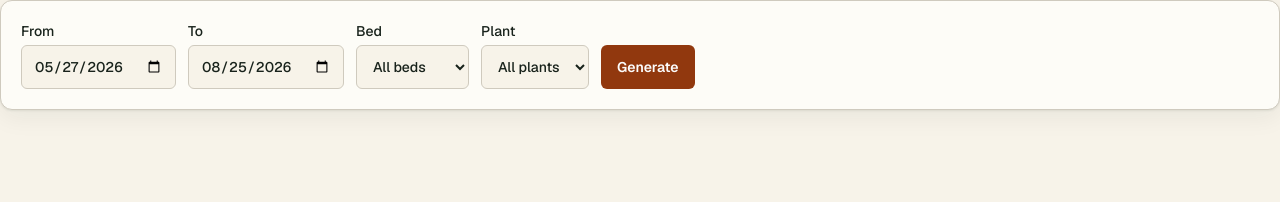
it: TrendsPanel › shows empty-state copy when a range has no harvests or weather
What coordinates should you click on to do the following:
click the button "Generate"
I would click on:
 (648, 67)
Its box is [601,45,695,89].
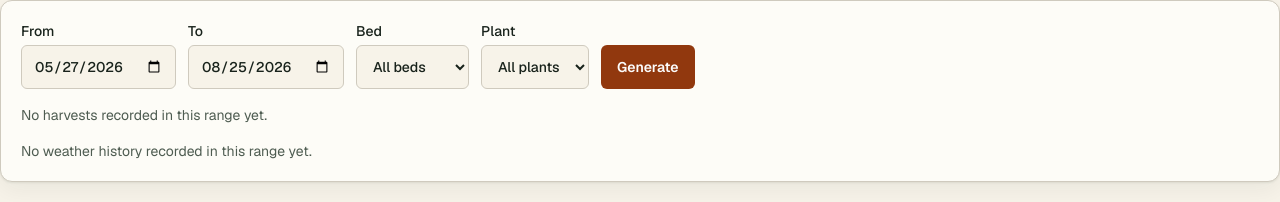
Now the text "No harvests recorded in this range yet." is shown, box [21,106,267,124]
Now the text "No weather history recorded in this range yet." is shown, box [21,142,312,160]
